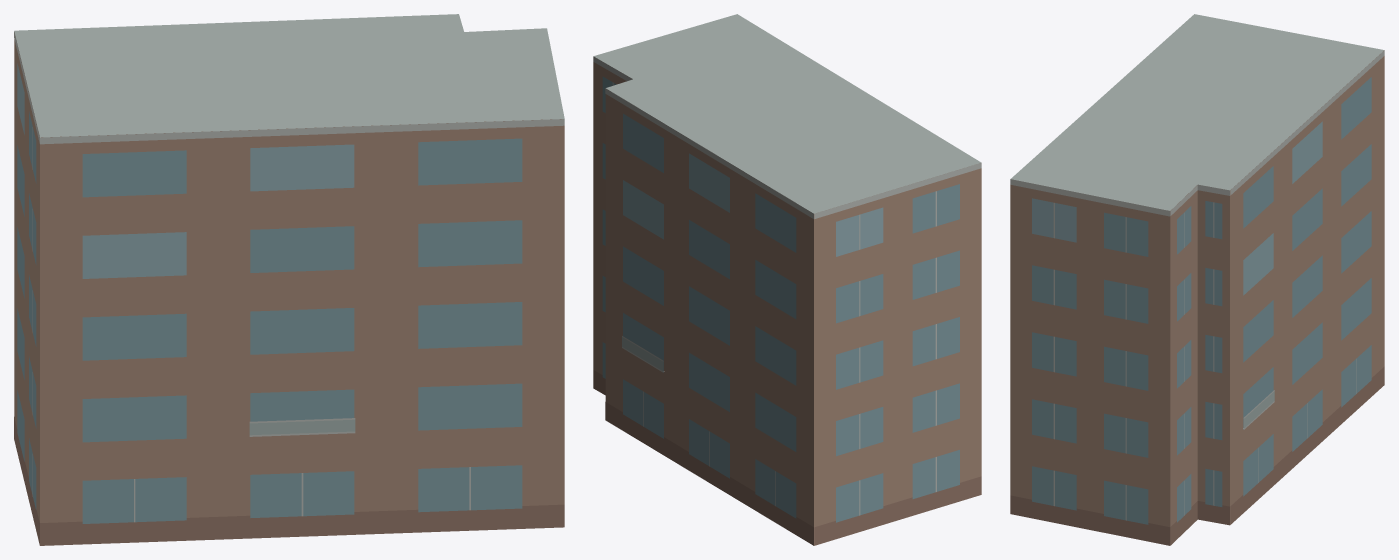
The model's file is survey-upis-32874083.glb.
The picture shows the model from 3 angles, left to right: view 1: azimuth 30°, elevation 25°; view 2: azimuth 150°, elevation 25°; view 3: azimuth 270°, elevation 25°; orthographic projection. The views are drawn at different scales.
Visible parts, largest first — view 1: survey-upis-32874083.tmp; view 2: survey-upis-32874083.tmp; view 3: survey-upis-32874083.tmp.
Boxes of the visible parts, x1,y1,x2,y2 form: survey-upis-32874083.tmp: (14,14,564,545); survey-upis-32874083.tmp: (593,14,981,545); survey-upis-32874083.tmp: (1010,14,1384,545).
Size of the model in its own units: 18.43 by 14.6 by 14.79.
